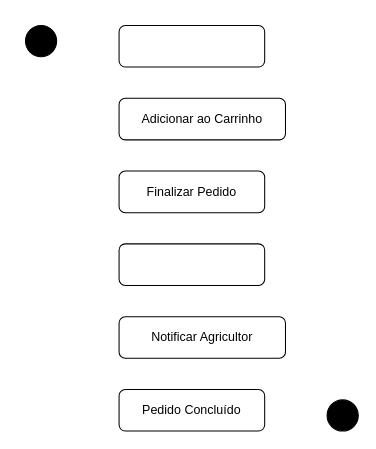
This 376x449 diagram has some shape labels left out. Each missing label, with the centre of its shape:
Validar Estoque: the point at 191,264
Visualizar Produtos: the point at 191,45
